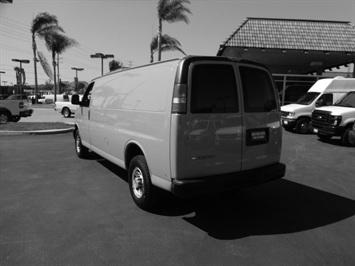car: (72, 53, 289, 215)
